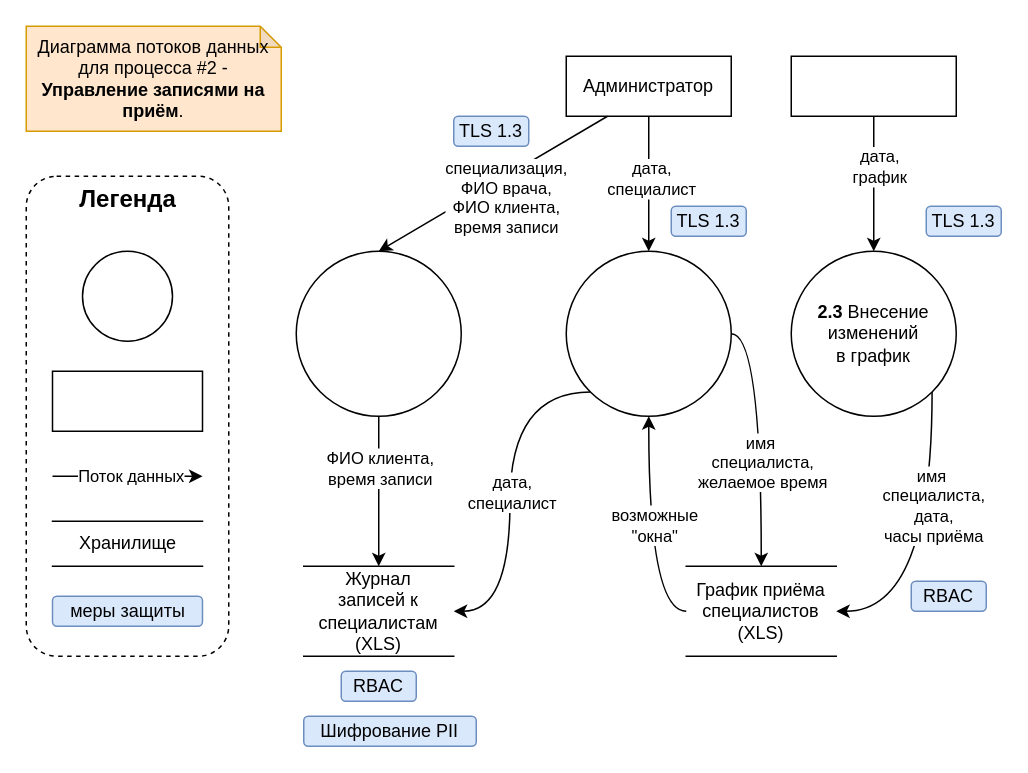
This 1028x773 diagram has some shape labels left out. The centre of each missing label's shape, as x and y in pixels:
2.1 Создание записи к специалисту: (x=378, y=333)
2.2 Поиск "окон" для записи: (x=648, y=333)
Врач: (x=873, y=85)
Процесс: (x=126, y=295)
Сущность (система / персона): (x=126, y=400)
